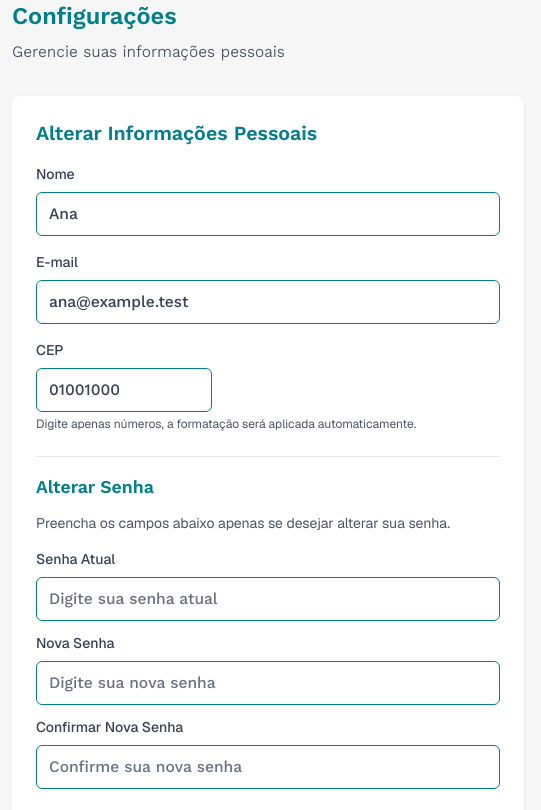
BEAPI-05 BEAPI-06 perfil e senha › CEP vazio permanece no DTO e validação array não anuncia sucesso
Check: the field showing "Ana" is shown, box [36,192,500,236]
Clear the field with placeholder "00000-000": coordinates (124, 390) [36,368,212,412]
(page scrolled)
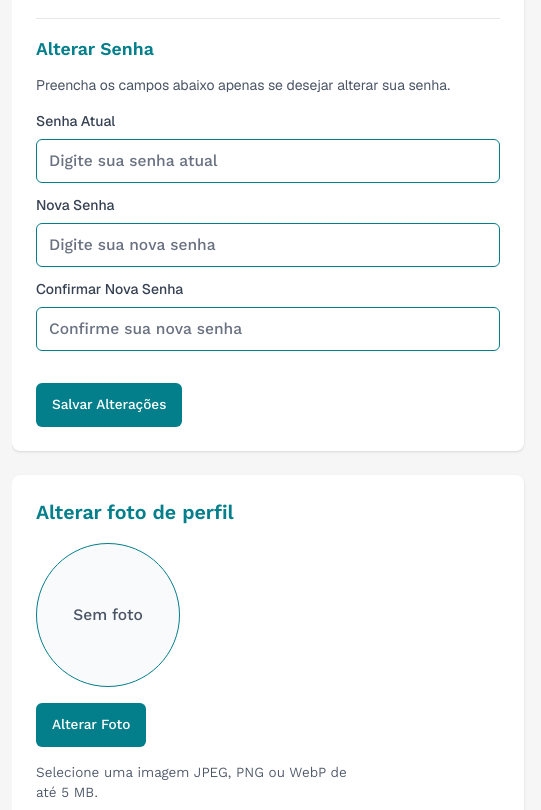
Click the button "Salvar Alterações": coordinates (109, 405) [36,383,182,427]
(page scrolled)
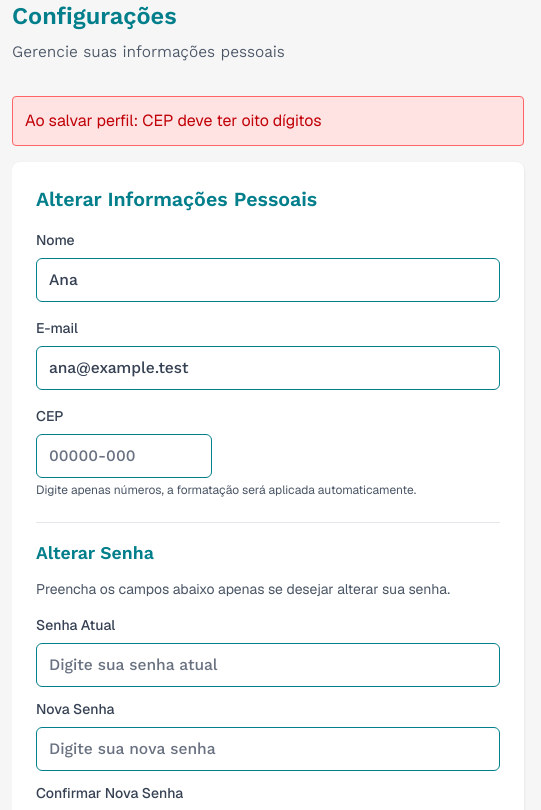
Check: the message reads "Ao salvar perfil: CEP deve ter oito dígitos", box [12,96,524,146]
